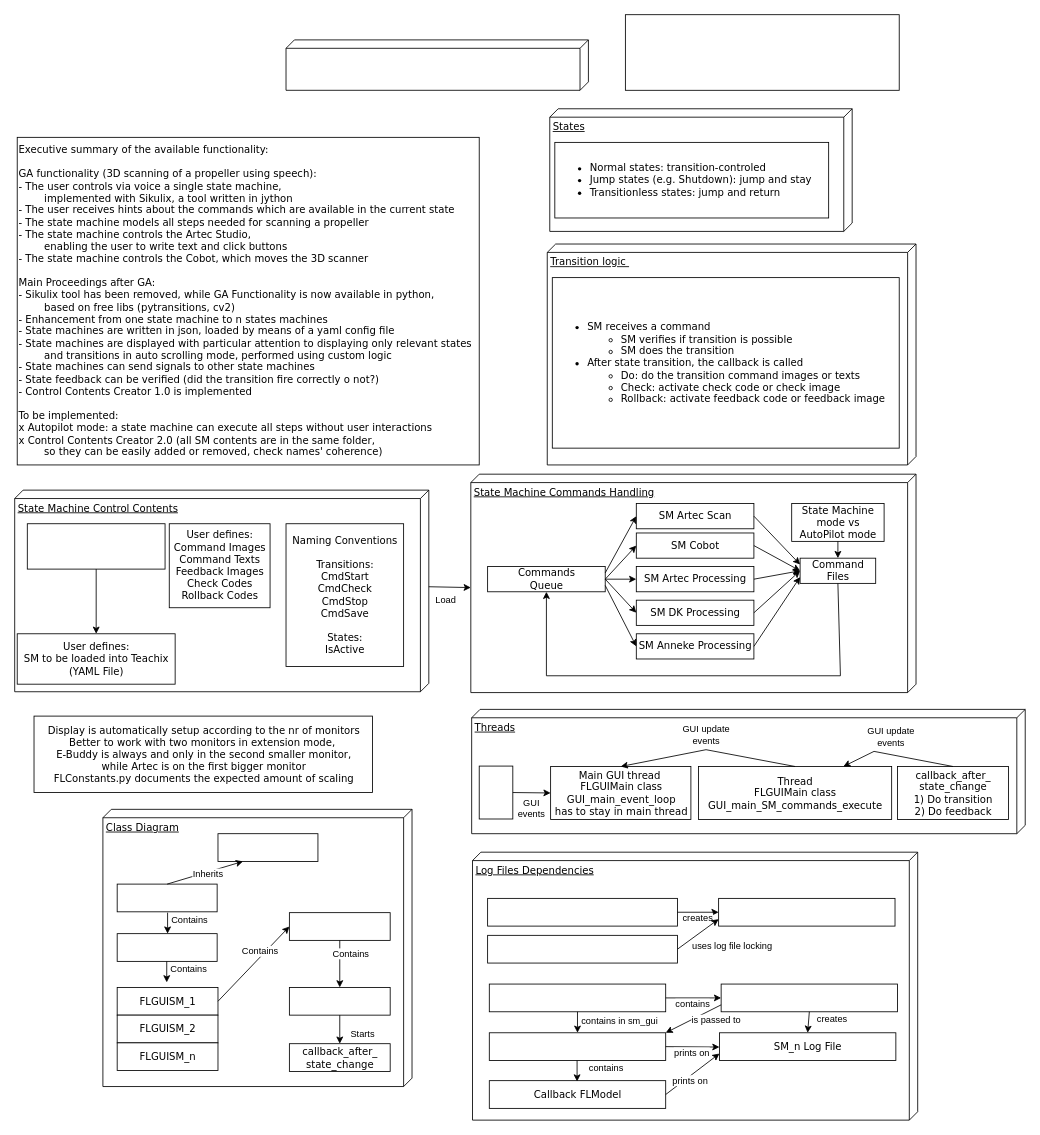
The diagram is 1040 pixels wide and 1135 high, and some of its shapes have lost their labels. The centre of each missing label's shape, as x and y in pixels:
Dictionary obj: (166,947)
E-Buddy: (436,64)
FLBaseClass: (267,847)
FLGraphMachine.py is recreated at each change: (577,1046)
FLGUIMain.py: (582,912)
FLGUISM: (577,997)
FLLogFile: (809,997)
FLModel: (339,1001)
GraphMachine: (339,926)
GUI_main_SM_commands_execute: (582,948)
MainGUI obj: (166,897)
MainGUI.txt: (806,912)
To be inserted: Confirmation: vocal / autopilot mode: (762,52)
User: (495,792)
User defines: JSON State Machine Files States & Transitions: (95,546)
